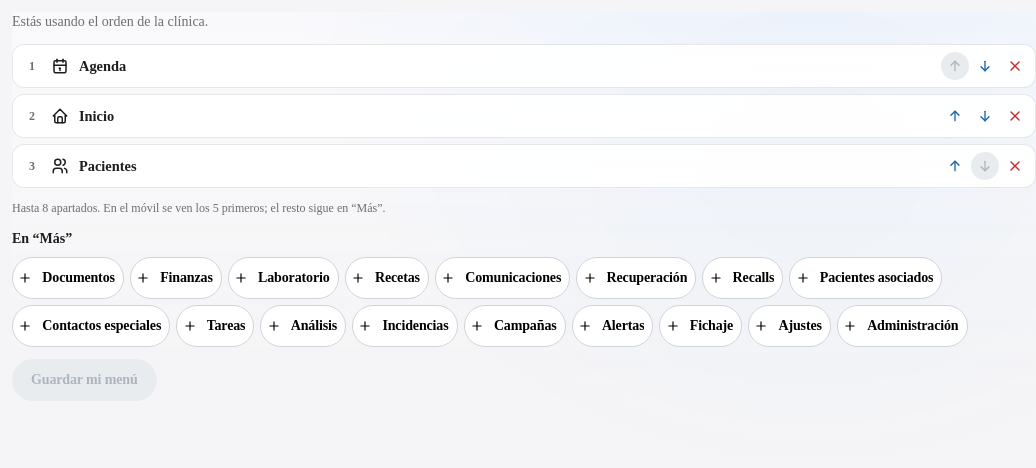
Test: NavigationLayoutEditor › starts from the clinic order when the member has none and saves a personal one
Expected: the text "Estás usando el orden de la clínica." is shown, [12,14,208,29]
Expected: the button "Guardar mi menú" is disabled, [12,359,156,401]
Click the button named "Subir Inicio" at (955, 116), box [941,102,969,130]
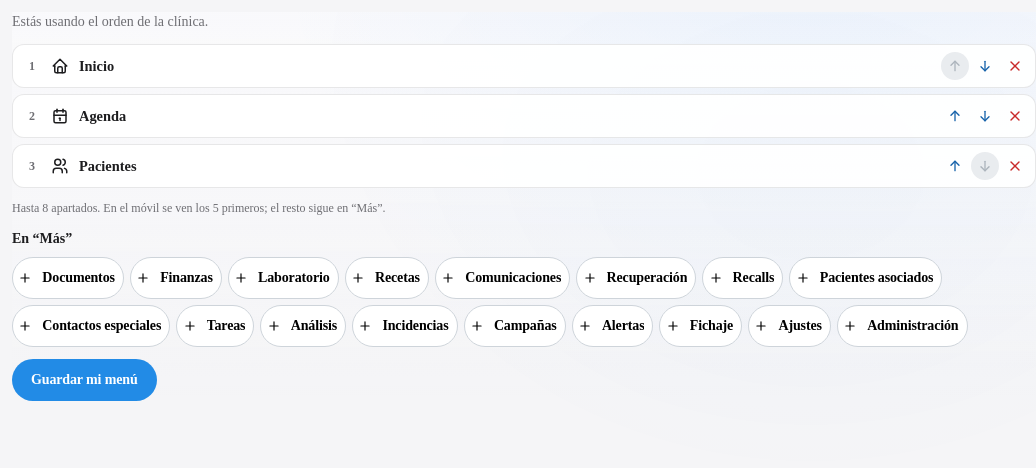
Click the button with aria-label "Añadir Tareas al menú" at (215, 326), box [176,305,254,347]
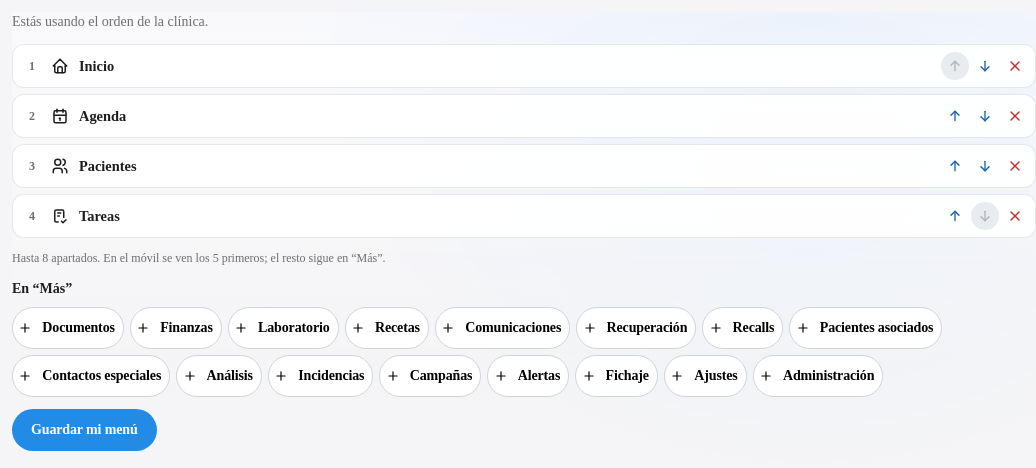
Click the button "Guardar mi menú" at (84, 430), box [12,409,156,451]
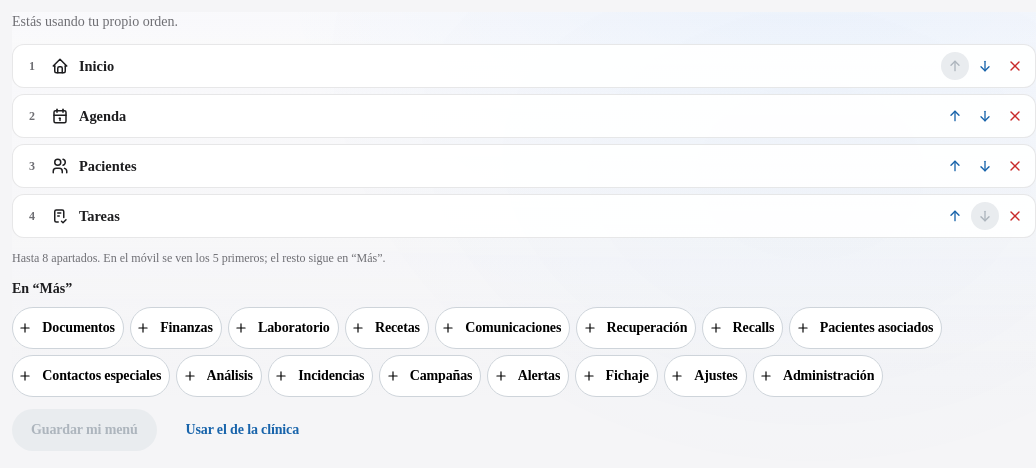
Now the button "Usar el de la clínica" is shown, box [166,409,318,451]
